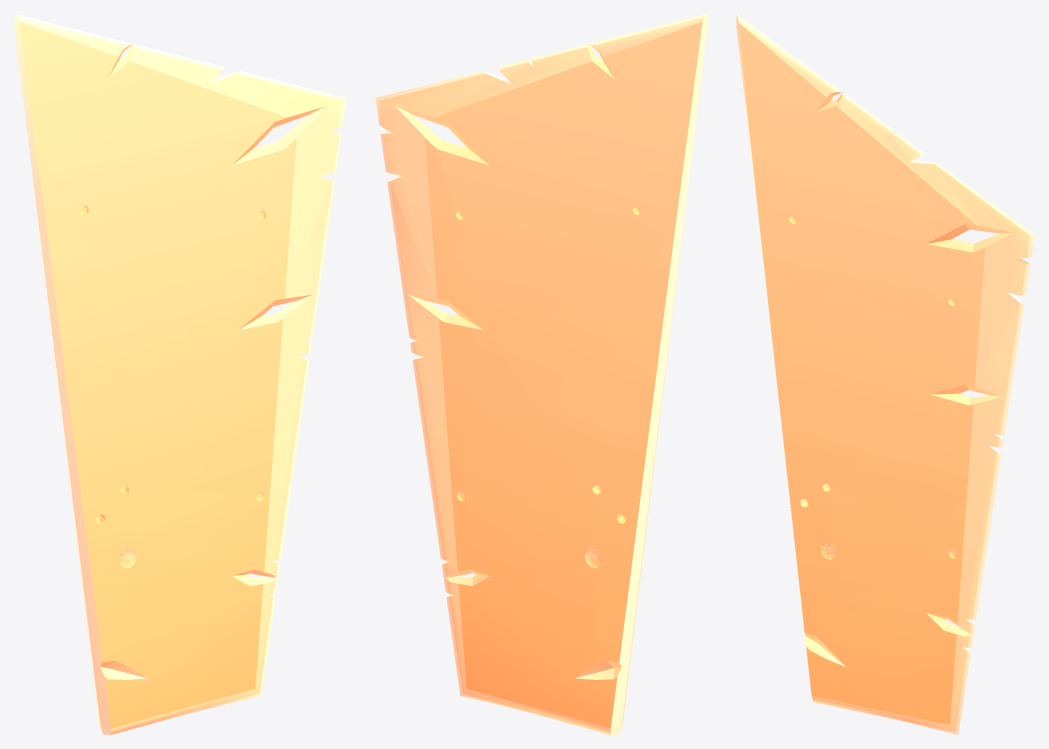
Rendered from wood_blade_bubbles_066.glb.
The picture shows the model from 3 angles, left to right: view 1: azimuth 30°, elevation 25°; view 2: azimuth 150°, elevation 25°; view 3: azimuth 330°, elevation 25°; orthographic projection. The views are drawn at different scales.
Parts seen in each view (by area): view 1: wood_blade_bubbles.066; view 2: wood_blade_bubbles.066; view 3: wood_blade_bubbles.066.
Part boxes in pixels (box(x1,y1,x2,y2)): wood_blade_bubbles.066: box(14, 14, 346, 734); wood_blade_bubbles.066: box(375, 14, 707, 734); wood_blade_bubbles.066: box(736, 14, 1034, 734).
Bounding box in the file's own units: 5.55 × 11.85 × 0.374.
1 material, 1 textured.
